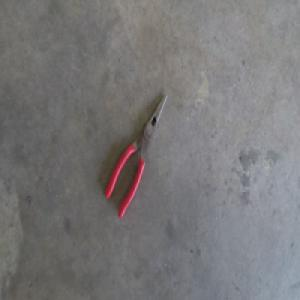Pliers: (105, 90, 170, 217)
